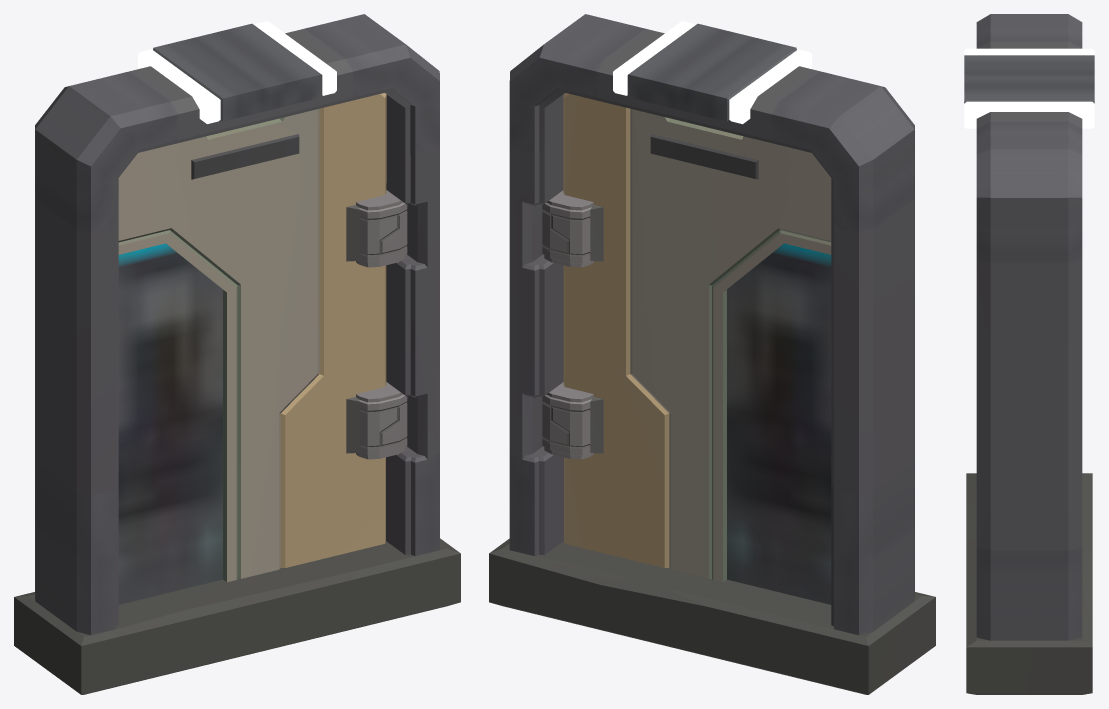
The model's file is entity75476.glb.
3 renders of one model, left to right at view 1: azimuth 30°, elevation 25°; view 2: azimuth 150°, elevation 25°; view 3: azimuth 270°, elevation 25°, orthographic. The views are drawn at different scales.
Parts seen in each view (by area): view 1: node_SM_Bld_Door_Single_01 (2), node_SM_Bld_Door_Single_01_Door_01; view 2: node_SM_Bld_Door_Single_01 (2), node_SM_Bld_Door_Single_01_Door_01; view 3: node_SM_Bld_Door_Single_01 (2).
Boxes of the visible parts, bbox=[...] form: node_SM_Bld_Door_Single_01 (2): bbox=[14, 14, 460, 694]; node_SM_Bld_Door_Single_01_Door_01: bbox=[118, 93, 407, 604]; node_SM_Bld_Door_Single_01 (2): bbox=[489, 14, 935, 694]; node_SM_Bld_Door_Single_01_Door_01: bbox=[542, 93, 831, 604]; node_SM_Bld_Door_Single_01 (2): bbox=[964, 14, 1094, 694].
Size of the model in its own units: 2.12 by 3.03 by 0.6717.
Materials: 1 (1 with a texture image).
